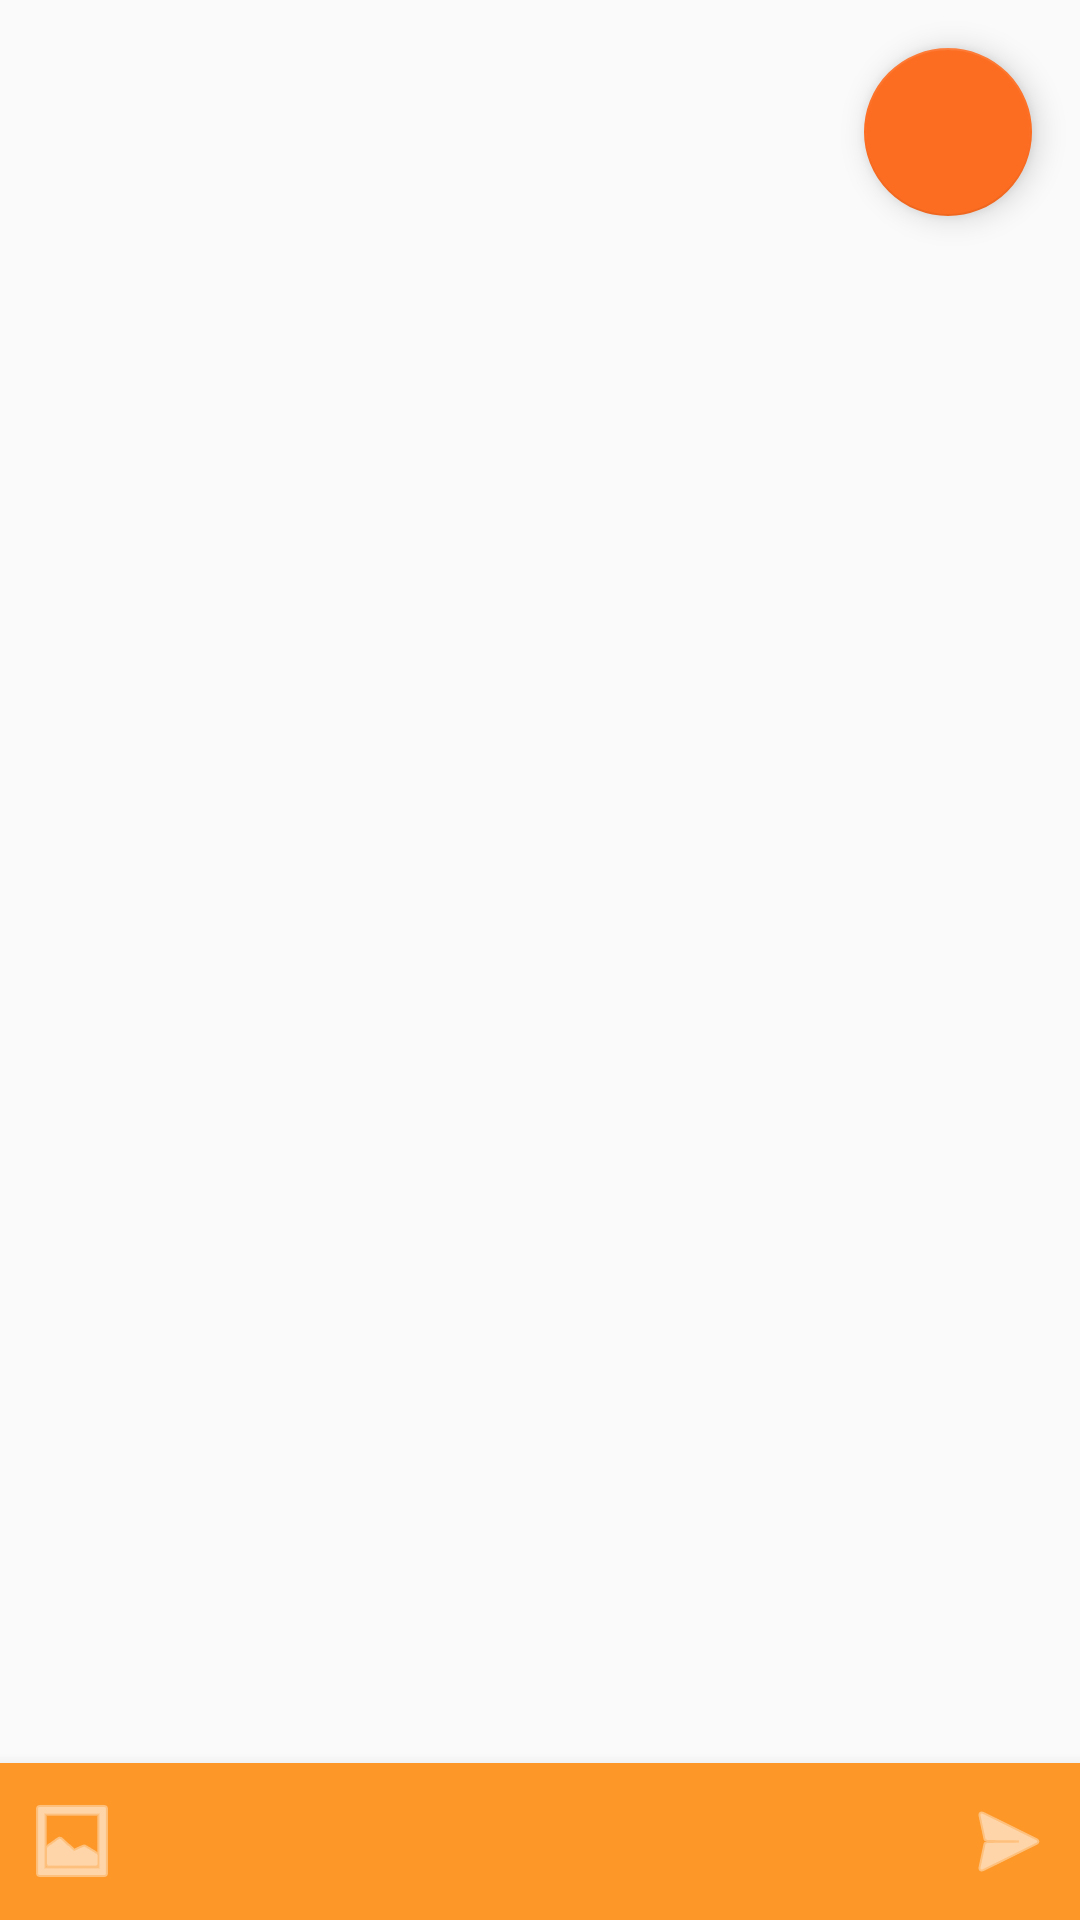

Screen size 1080w x 1920h. Icon name, then its center in pixels as (x=x, y=y):
gallery: (x=72, y=1841)
send: (x=1009, y=1841)
